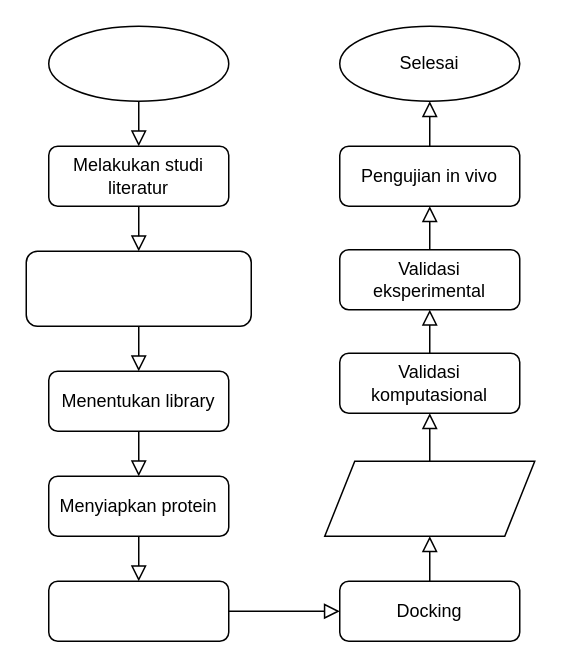
Image size: 561x668. Some labels were removed from this diagram. Each missing label, with the centre of its shape:
Identifikasi binding atau active site: [138,610]
Memberikan score: [429,498]
Mengumpulkan struktur 3d protein dan data aktivitas inhibitor: [138,288]
Mulai: [138,63]
